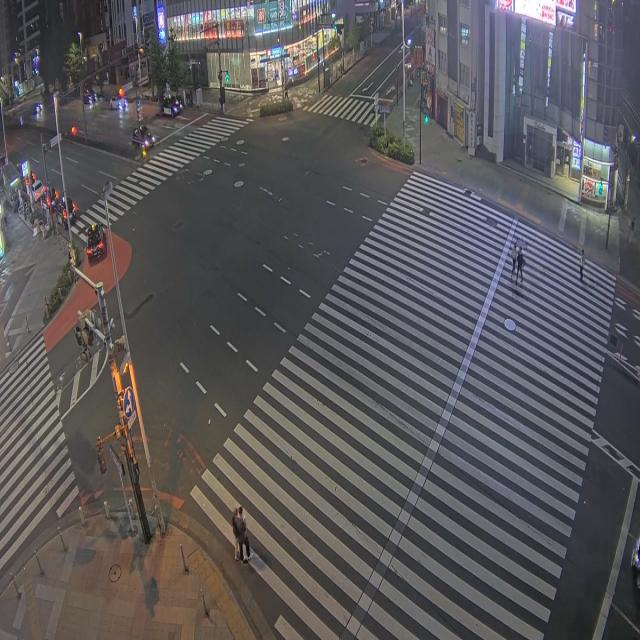car: (86, 224, 105, 262), (132, 126, 155, 148), (61, 196, 78, 223), (160, 96, 178, 117), (55, 202, 68, 228), (32, 180, 46, 202), (110, 96, 127, 110), (83, 90, 96, 106)
